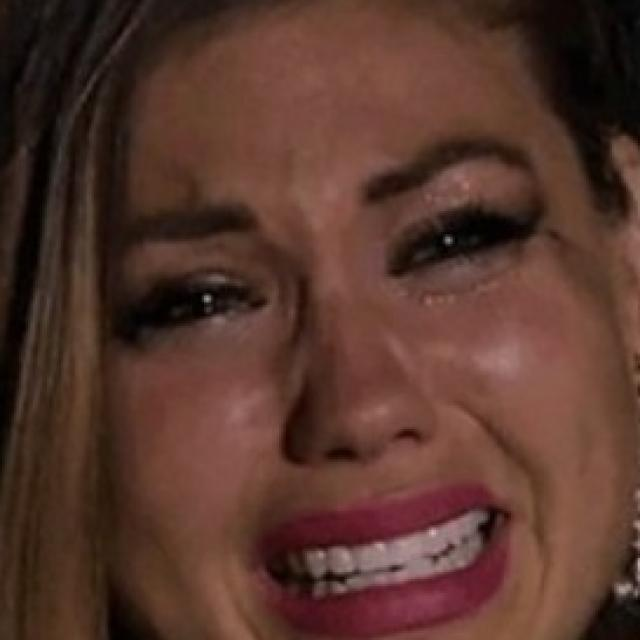Depress: (80, 12, 638, 638)
